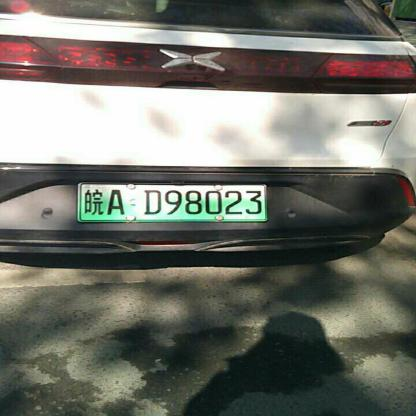lp: (77, 184, 267, 221)
